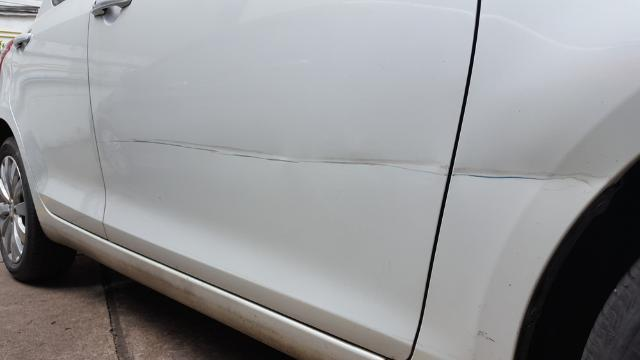scratch: (107, 137, 450, 177), (451, 166, 611, 190)
